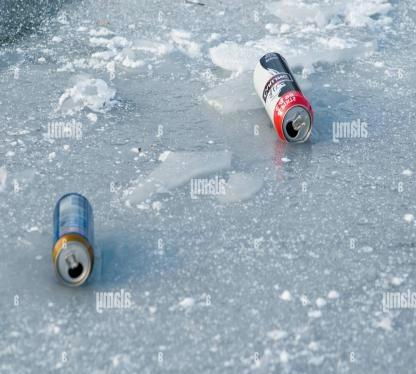Metal: (250, 47, 316, 146), (48, 188, 97, 291)
